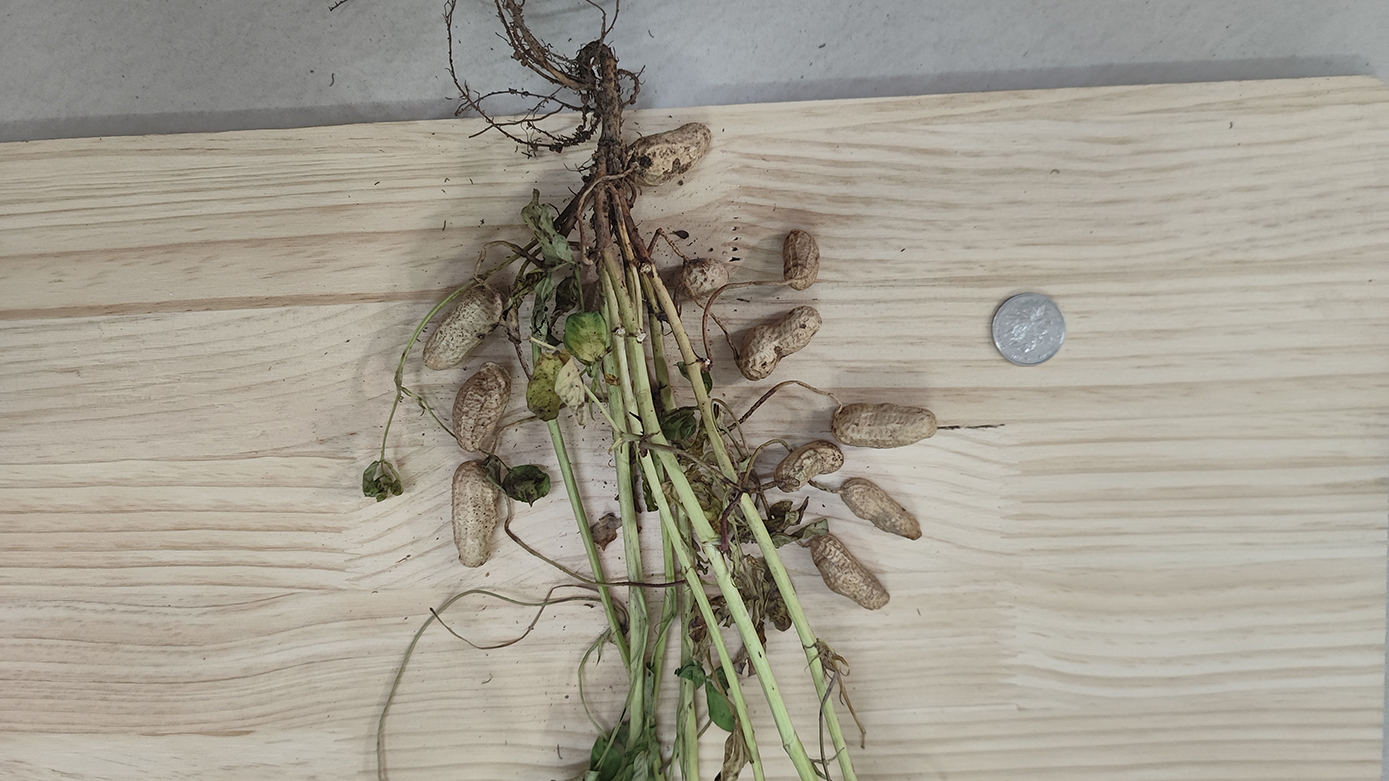h: (419, 281, 503, 368), (812, 531, 891, 610), (739, 306, 823, 380), (451, 458, 502, 569), (624, 122, 712, 185), (840, 476, 922, 541), (453, 361, 513, 449), (832, 403, 940, 449), (776, 439, 844, 492), (781, 229, 821, 290), (678, 258, 730, 296)
